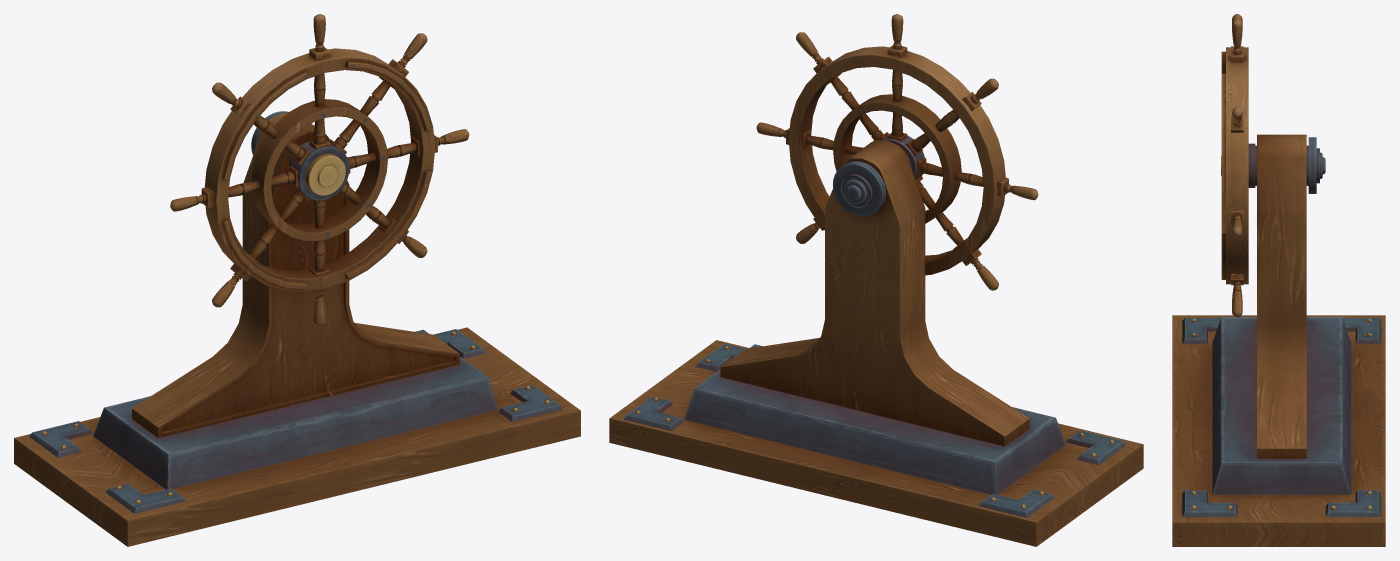
Rendered from ship_helm.glb.
3 renders of one model, left to right at view 1: azimuth 30°, elevation 25°; view 2: azimuth 150°, elevation 25°; view 3: azimuth 270°, elevation 25°, orthographic. The views are drawn at different scales.
Visible parts, largest first — view 1: Base_LP, HelmSupport_LP, Helm_LP, Handles, BaseHolder_LP; view 2: Base_LP, HelmSupport_LP, Helm_LP, Handles, BaseHolder_LP; view 3: Base_LP, HelmSupport_LP, Helm_LP, BaseHolder_LP, Handles.
Part boxes in pixels (x1,y1,x2,y2): Base_LP: (14,327,580,546); HelmSupport_LP: (132,113,459,437); Helm_LP: (204,48,435,292); Handles: (170,14,469,326); BaseHolder_LP: (29,329,562,513); Base_LP: (609,340,1143,546); HelmSupport_LP: (720,140,1029,446); Helm_LP: (788,46,1005,275); Handles: (756,14,1038,290); BaseHolder_LP: (623,343,1126,517); Base_LP: (1172,315,1385,546); HelmSupport_LP: (1257,134,1306,458); Helm_LP: (1221,47,1325,284); BaseHolder_LP: (1182,318,1381,516); Handles: (1231,14,1243,317).
Bounding box in the file's own units: 206 × 196 × 89.46.
Materials: 1 (1 with a texture image).
